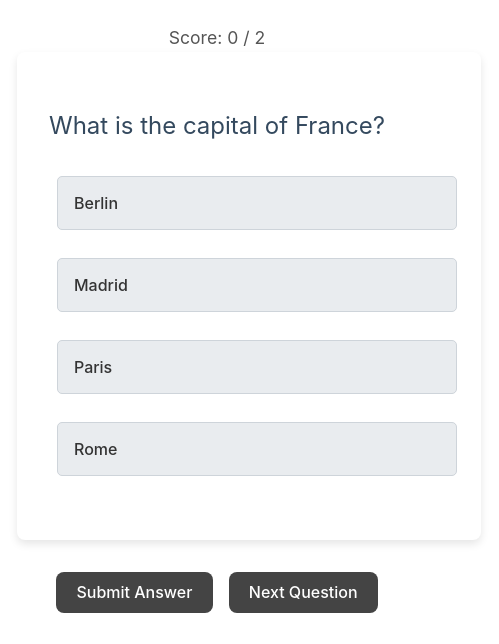
Scenario: GamePage › submits correct answer and shows feedback
Click the button "Paris": (93, 367) left=57, top=340, right=457, bottom=394
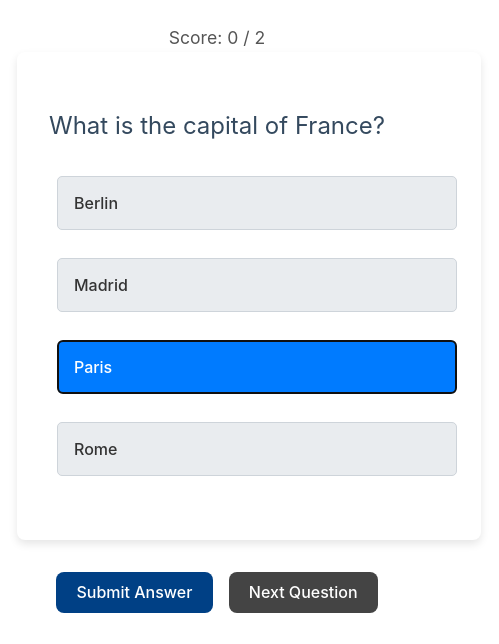
Click the button "Submit Answer": (134, 592) left=56, top=572, right=213, bottom=613
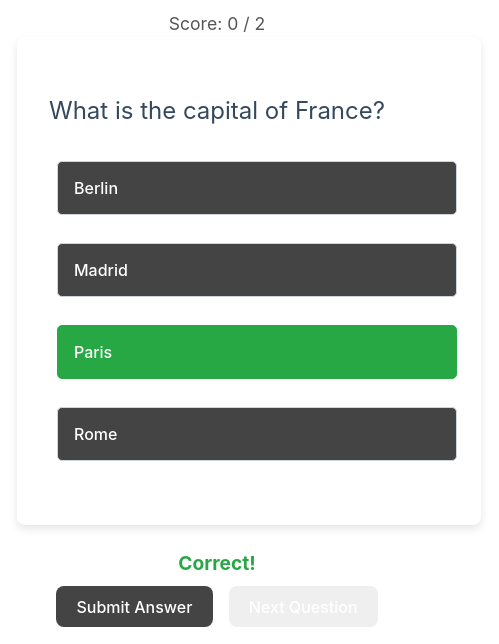
Expected: the text "Correct!" is shown, left=178, top=551, right=256, bottom=575
